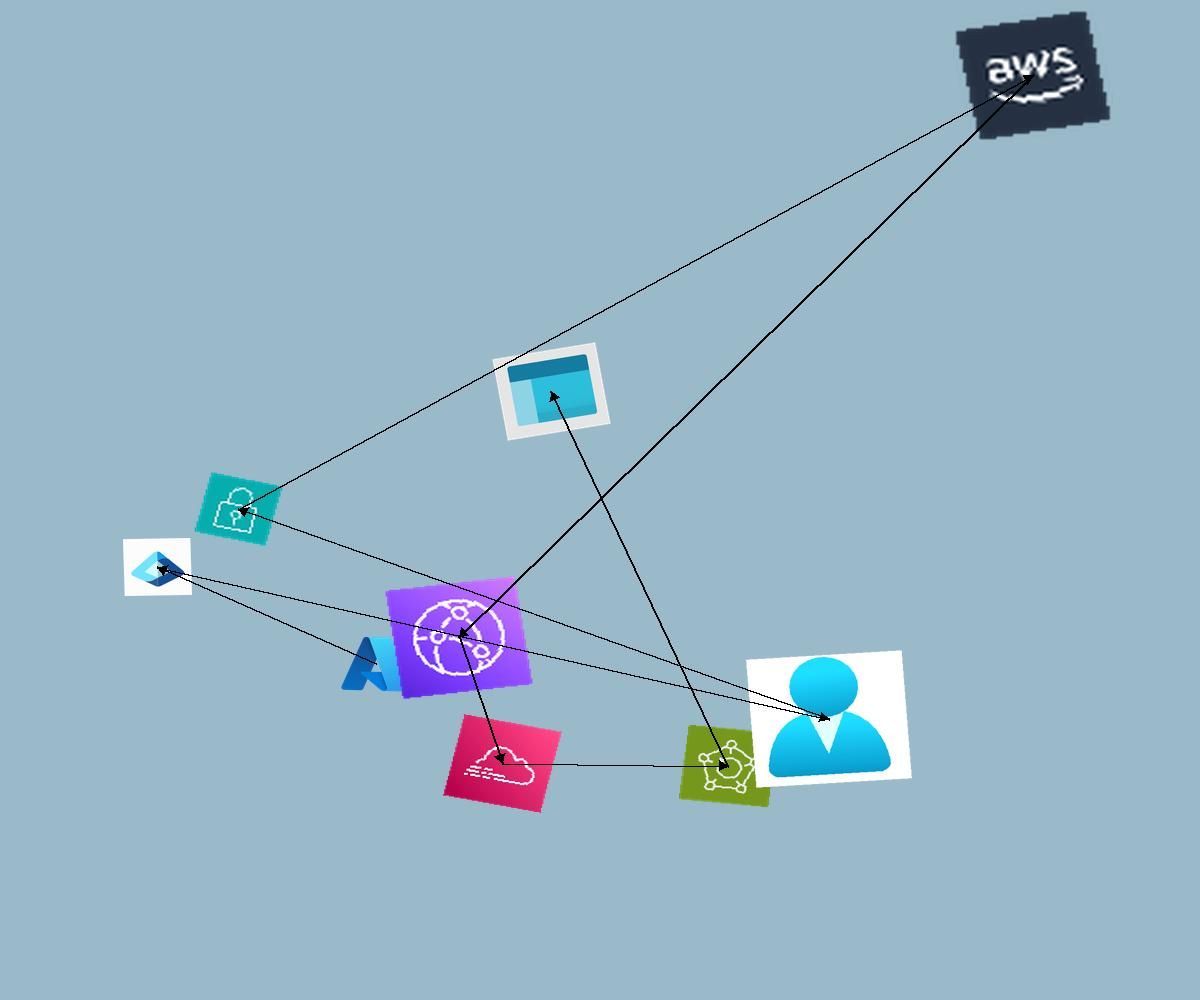AWS-Backup: (678, 724, 779, 808)
AWS-Cloud-logo: (953, 9, 1113, 142)
AWS-CloudFront: (384, 575, 534, 700)
AWS-CloudTrail: (443, 714, 562, 813)
AWS-Private-subnet: (193, 471, 284, 547)
Azure_management-portal: (492, 342, 611, 441)
Azure_microsoft_entra: (123, 538, 192, 596)
Azure_services: (338, 632, 415, 696)
Azure_users: (746, 650, 912, 788)
